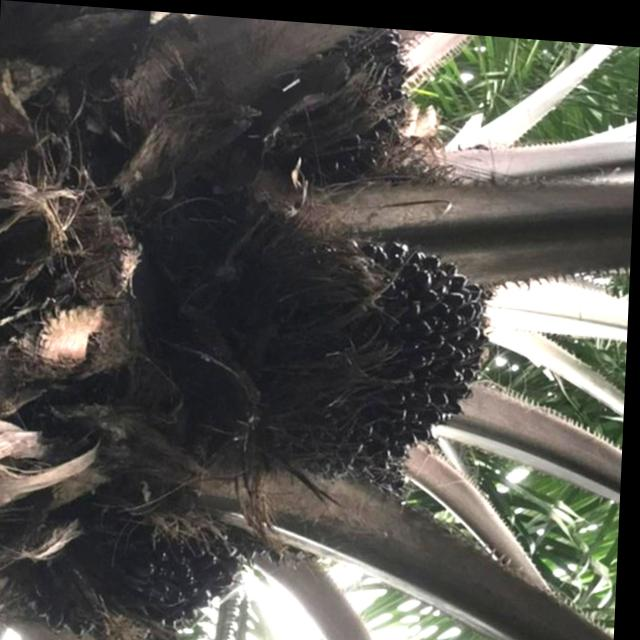ripe: (230, 218, 503, 478), (75, 477, 267, 623), (287, 28, 419, 185)
